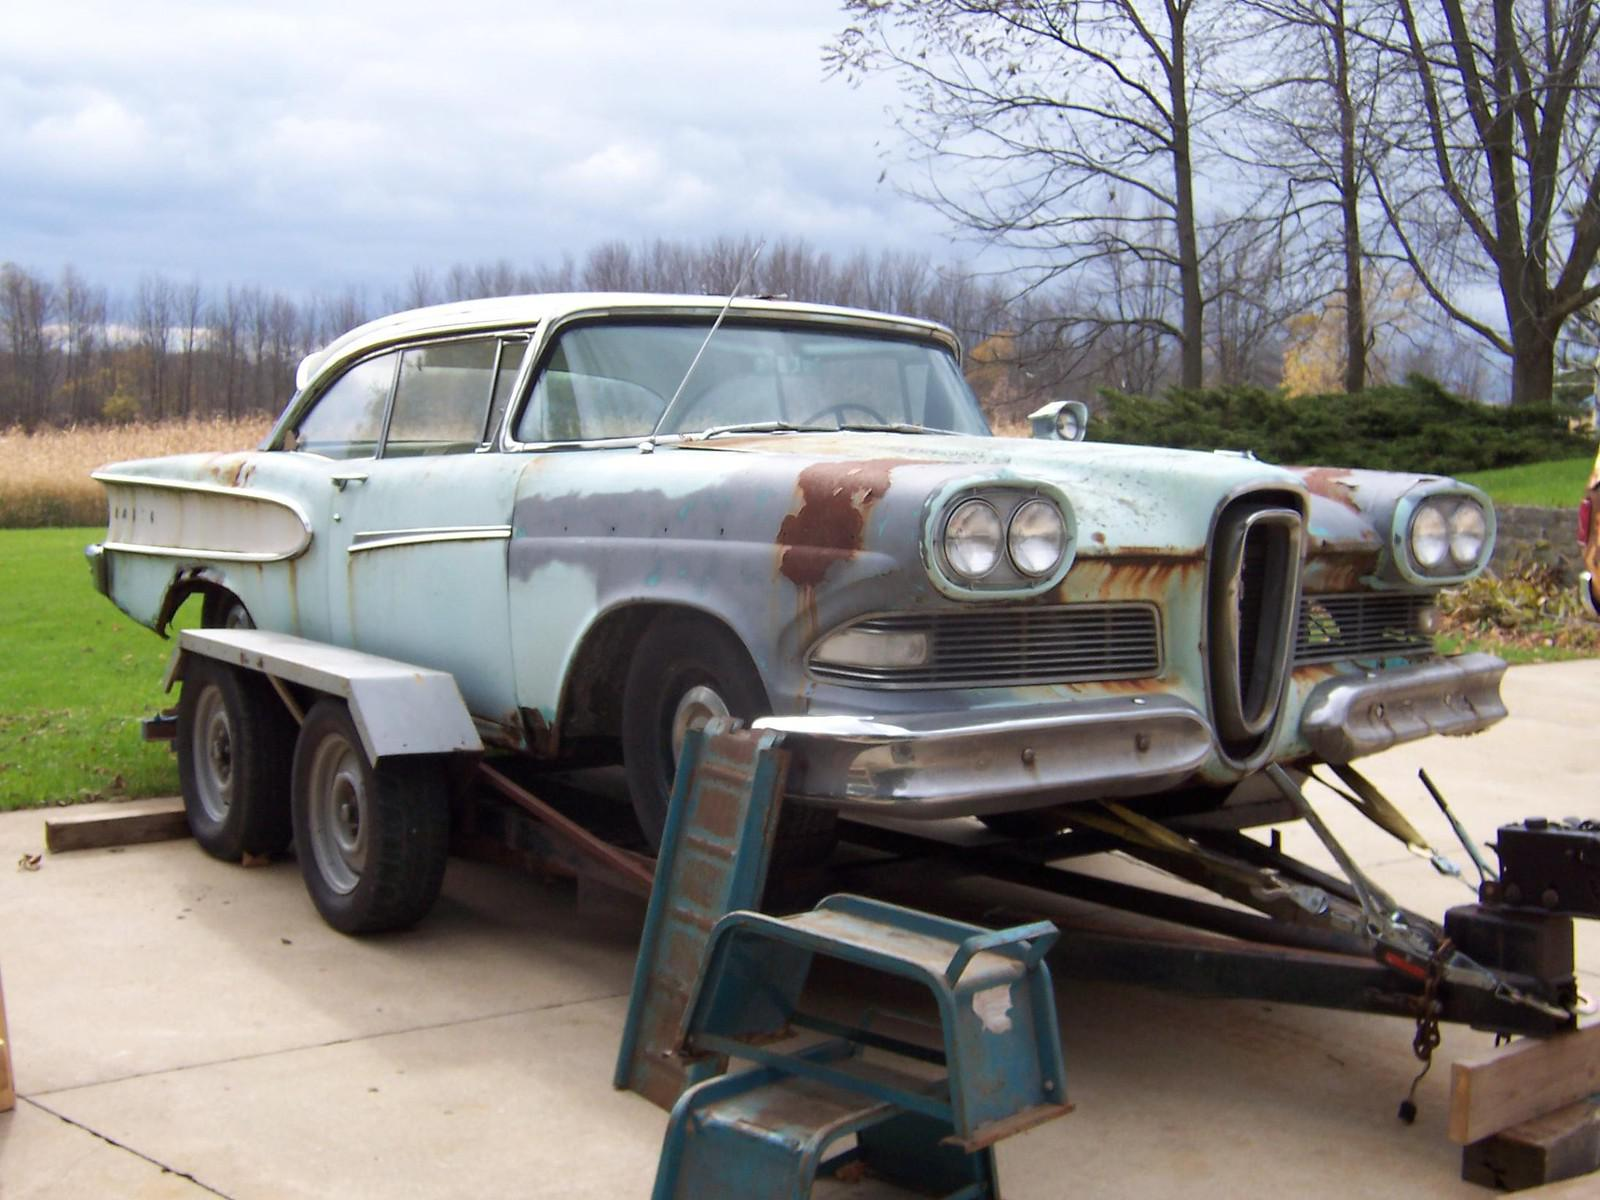bonnet-dent: (511, 420, 1456, 526)
